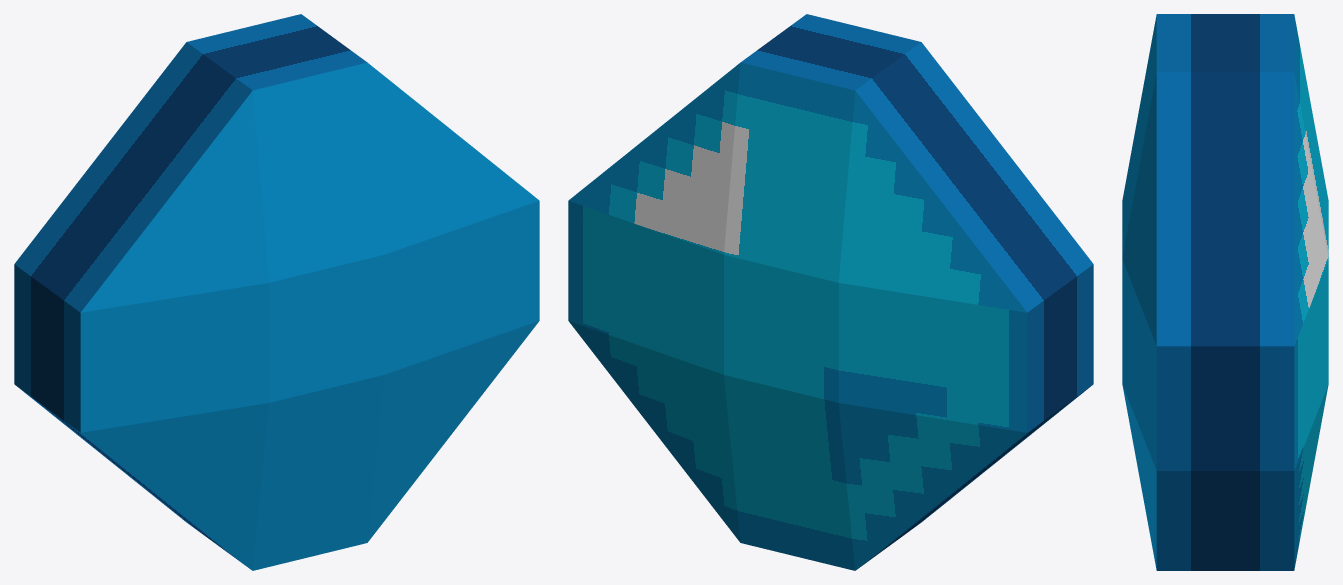
File: Gem.fbx
The picture shows the model from 3 angles, left to right: view 1: azimuth 30°, elevation 25°; view 2: azimuth 150°, elevation 25°; view 3: azimuth 270°, elevation 25°; orthographic projection. The views are drawn at different scales.
Parts seen in each view (by area): view 1: cuboid; view 2: cuboid; view 3: cuboid.
Boxes of the visible parts, x1,y1,x2,y2 form: cuboid: (14,14,539,570); cuboid: (568,14,1093,570); cuboid: (1122,14,1328,570).
Size of the model in its own units: 100 by 100 by 37.5.
1 material, 1 textured.
